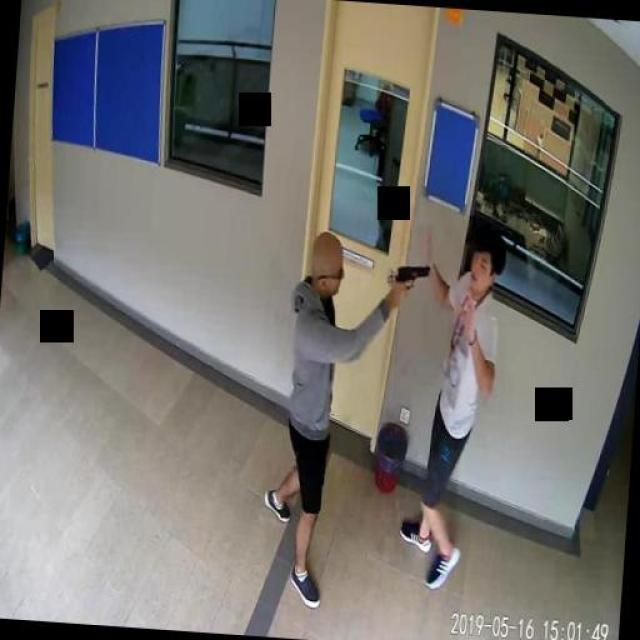gun: (392, 260, 428, 304)
